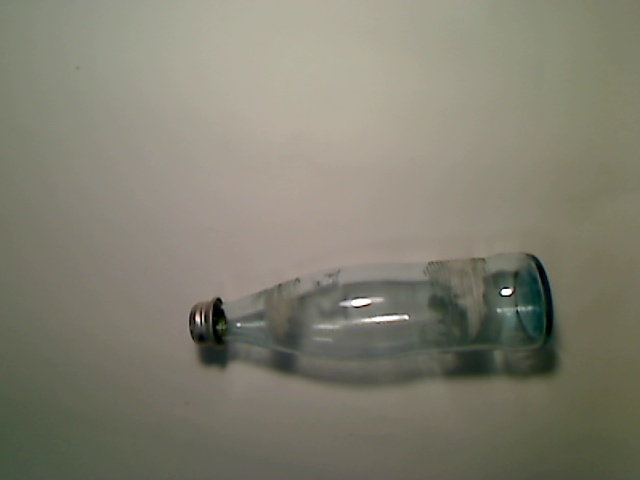bottle: (188, 252, 554, 364)
